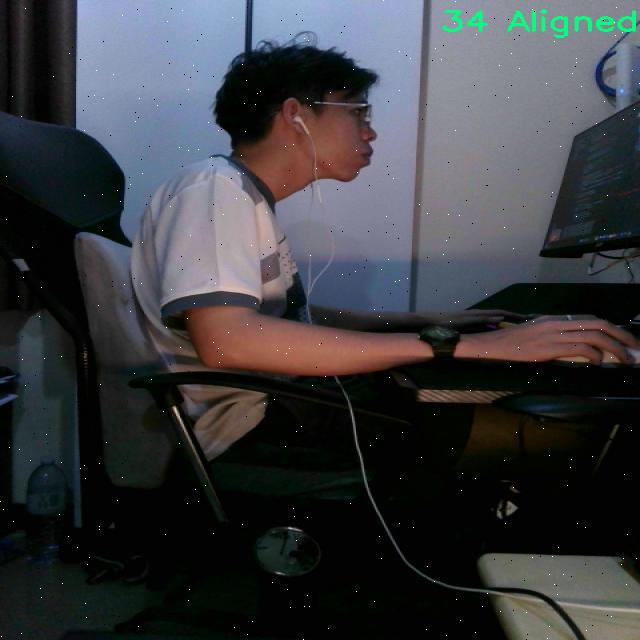Bad: (120, 33, 446, 501)
